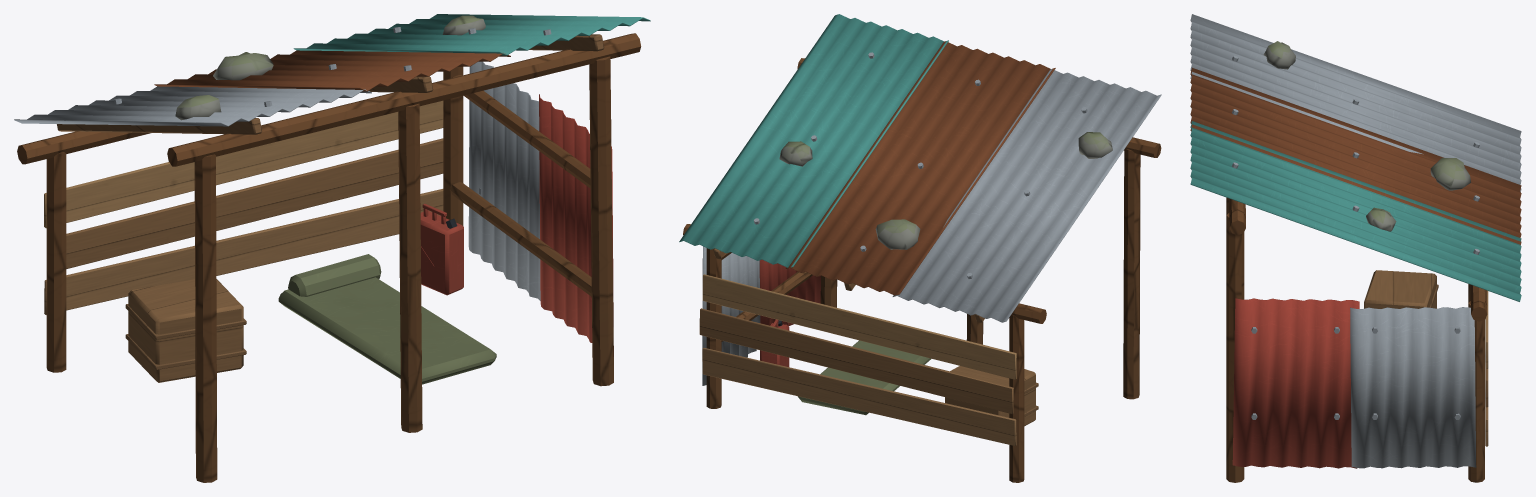
Rendered from lean_to_metal.glb.
The picture shows the model from 3 angles, left to right: view 1: azimuth 30°, elevation 25°; view 2: azimuth 150°, elevation 25°; view 3: azimuth 270°, elevation 25°; orthographic projection. The views are drawn at different scales.
Visible parts, largest first — view 1: lean_to_metal; view 2: lean_to_metal; view 3: lean_to_metal.
Part boxes in pixels (x1,y1,x2,y2): lean_to_metal: (14, 14, 650, 482); lean_to_metal: (679, 14, 1161, 482); lean_to_metal: (1190, 14, 1521, 482).
Size of the model in its own units: 3.4 by 2.67 by 2.61.
Materials: 15 (15 with a texture image).
